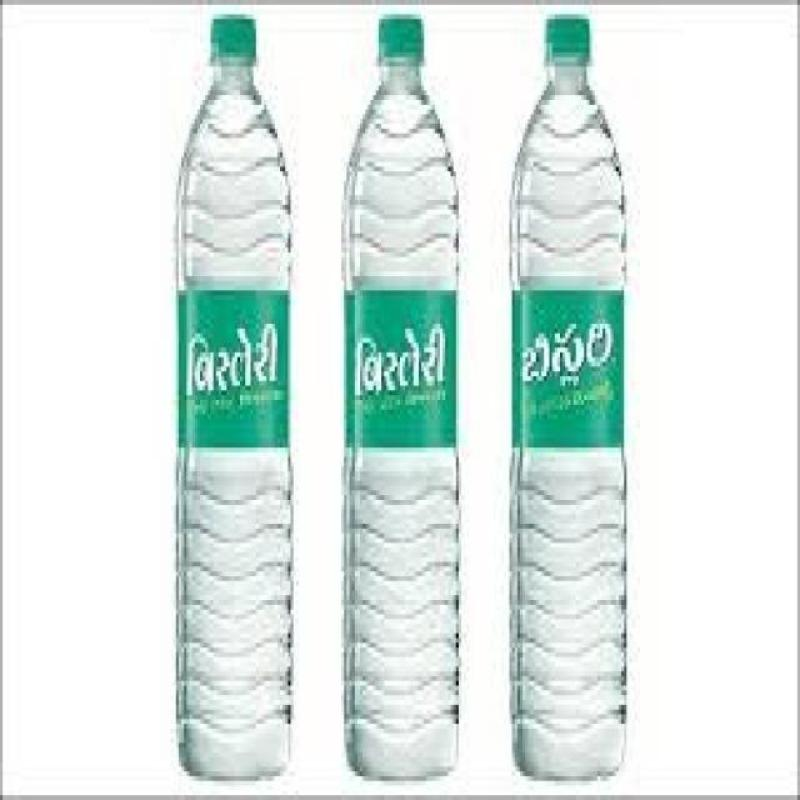botella: (508, 11, 628, 779), (340, 14, 460, 776), (173, 12, 291, 783)
